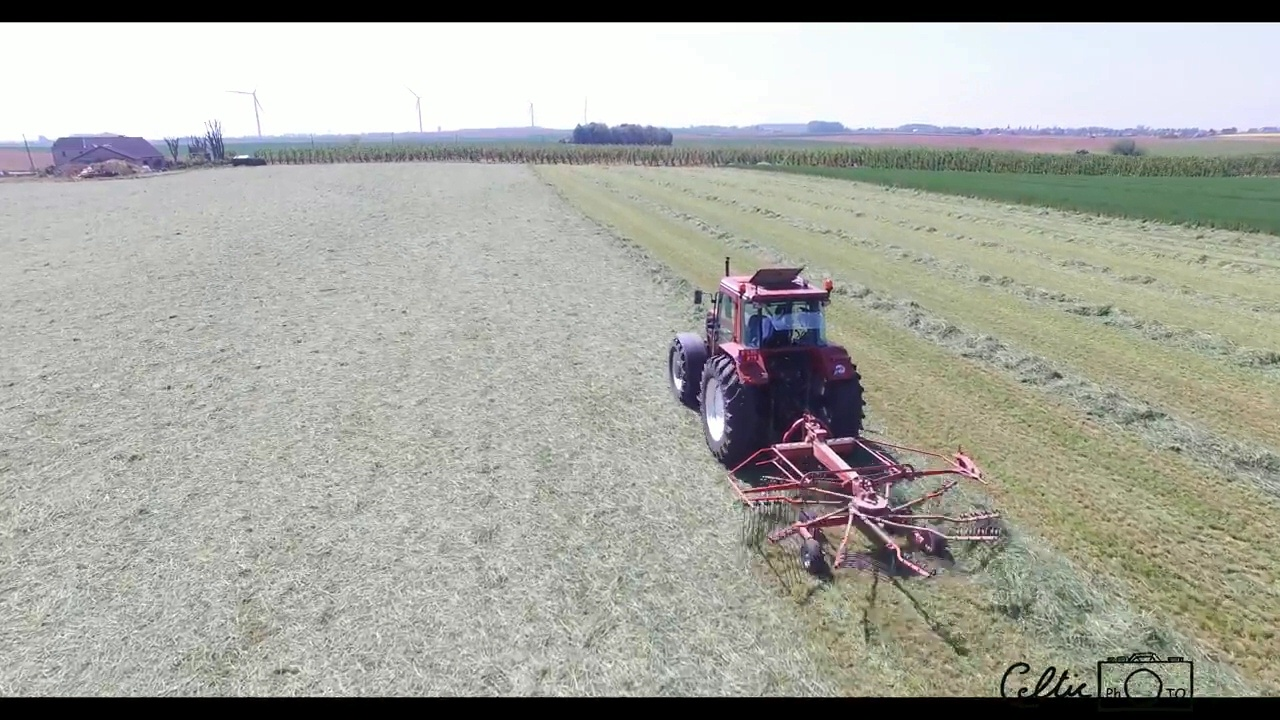traktor: (663, 253, 873, 467)
